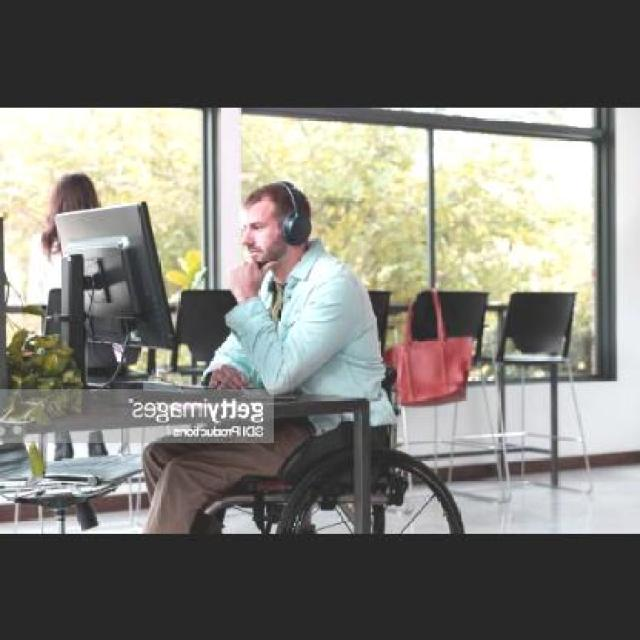wheelchairs: (177, 364, 481, 536)
